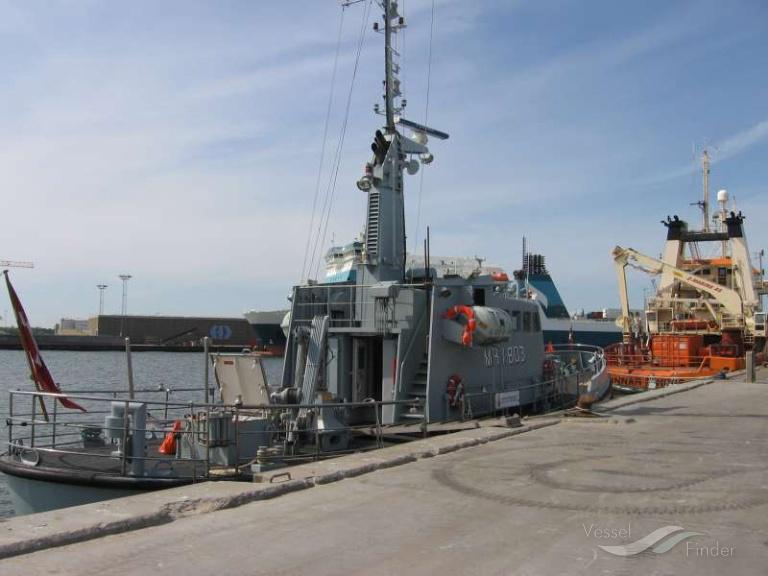OCR: (476, 344, 526, 368)
